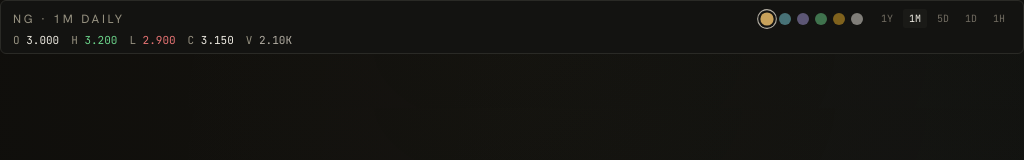
Test: PriceMiniChart timeframe controls › switches to 1H → 1m resolution
Click the tab "1H": coordinates (999, 18) [987,9,1011,28]
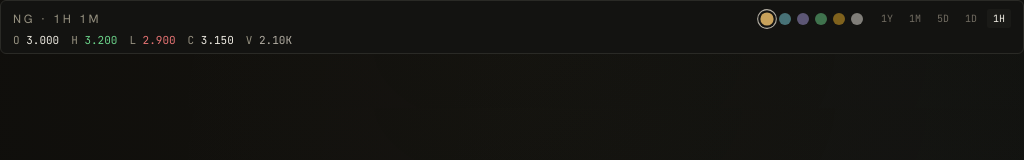
Expected: the text "NG · 1H 1m" is shown, [13,10,101,26]
